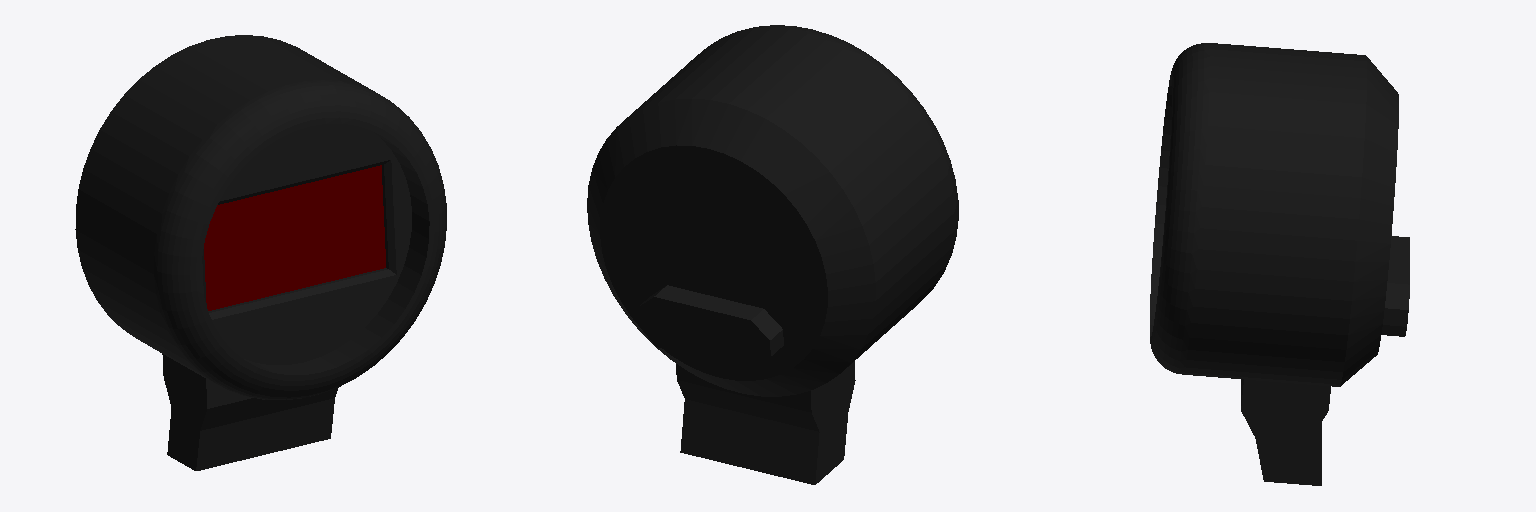
File: TurboCharger_Boost_Gauge.obj
3 renders of one model, left to right at view 1: azimuth 30°, elevation 25°; view 2: azimuth 150°, elevation 25°; view 3: azimuth 270°, elevation 25°, orthographic.
Visible parts, largest first — view 1: Boost_Gauge; view 2: Boost_Gauge; view 3: Boost_Gauge.
Boxes of the visible parts, x1=… form: Boost_Gauge: x1=75, y1=35, x2=446, y2=470; Boost_Gauge: x1=587, y1=25, x2=958, y2=484; Boost_Gauge: x1=1150, y1=43, x2=1409, y2=485.
Bounding box in the file's own units: 0.0476 × 0.0623 × 0.0373.